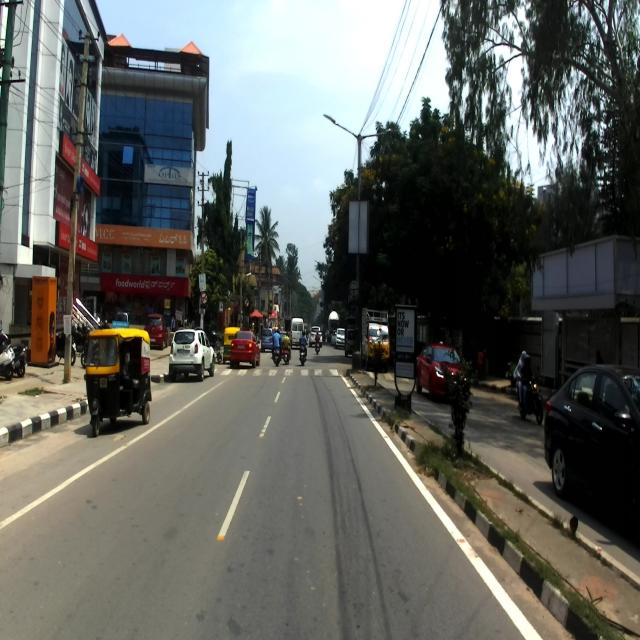Car_Honda: (544, 361, 640, 525)
Car_Maruti-Suzuki: (416, 342, 471, 400)
Car_Renault: (168, 326, 215, 381)
Car_Skoda: (229, 329, 260, 367)
autorickshaw: (83, 328, 152, 436)
motorcycle_bajaj: (515, 372, 544, 424)
scooter: (0, 336, 18, 380)
truck: (360, 306, 389, 371)
